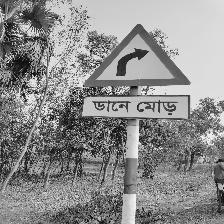Right-turn: (82, 24, 193, 121)
